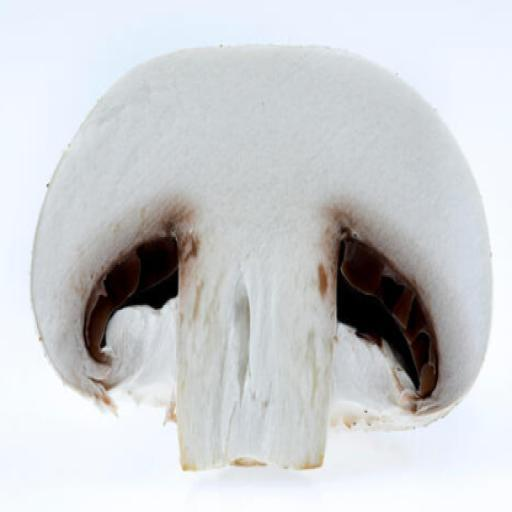mushroom: (26, 35, 502, 479)
